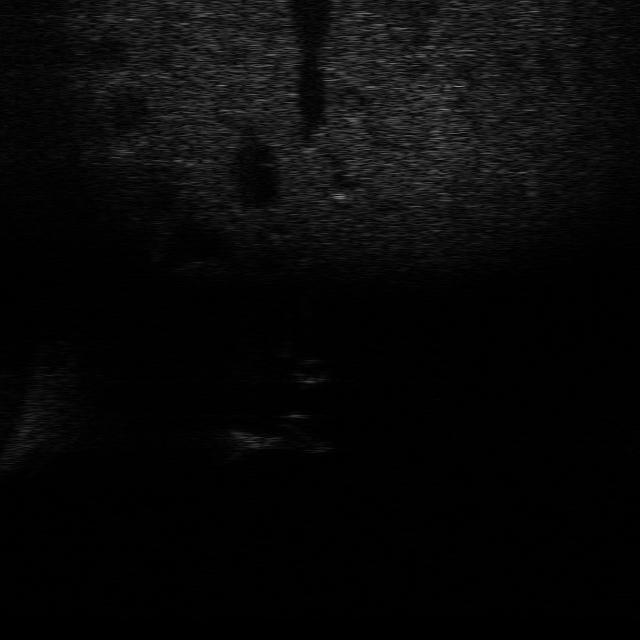ball: (286, 354, 334, 388)
square cage: (211, 424, 281, 461)
tyre: (275, 410, 340, 457)
